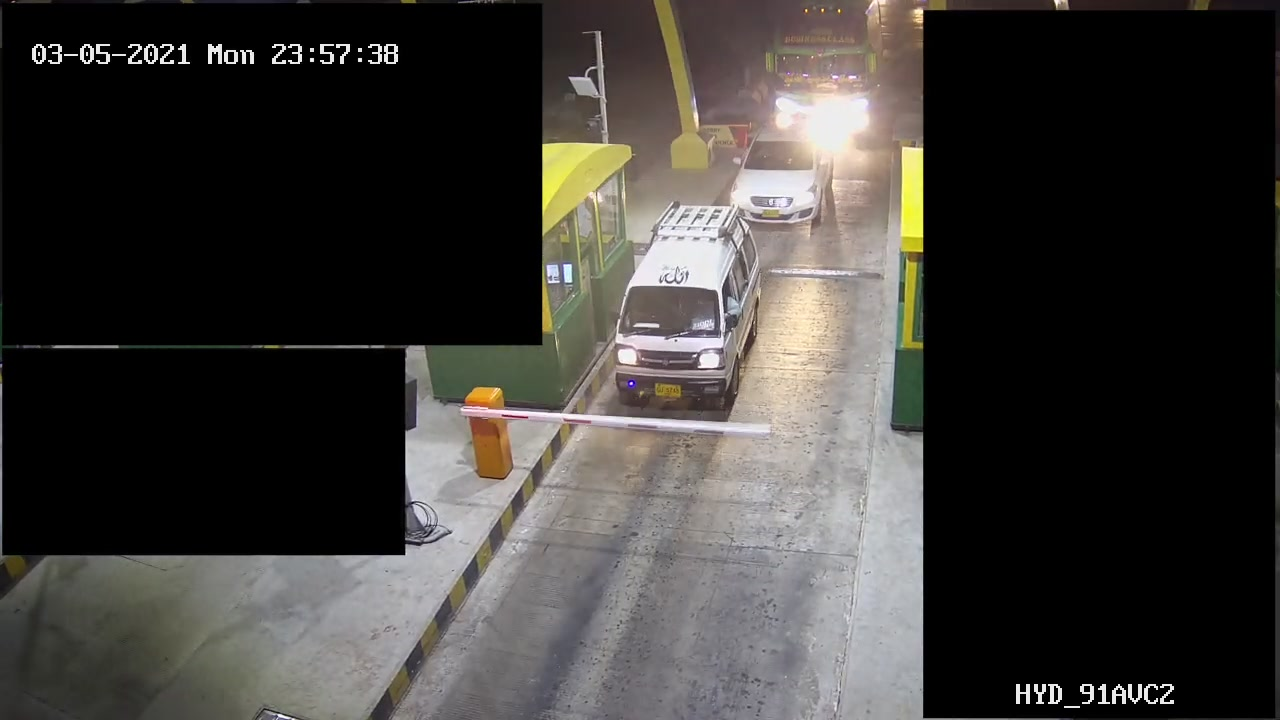F1: (615, 202, 763, 412), (719, 131, 855, 235)
